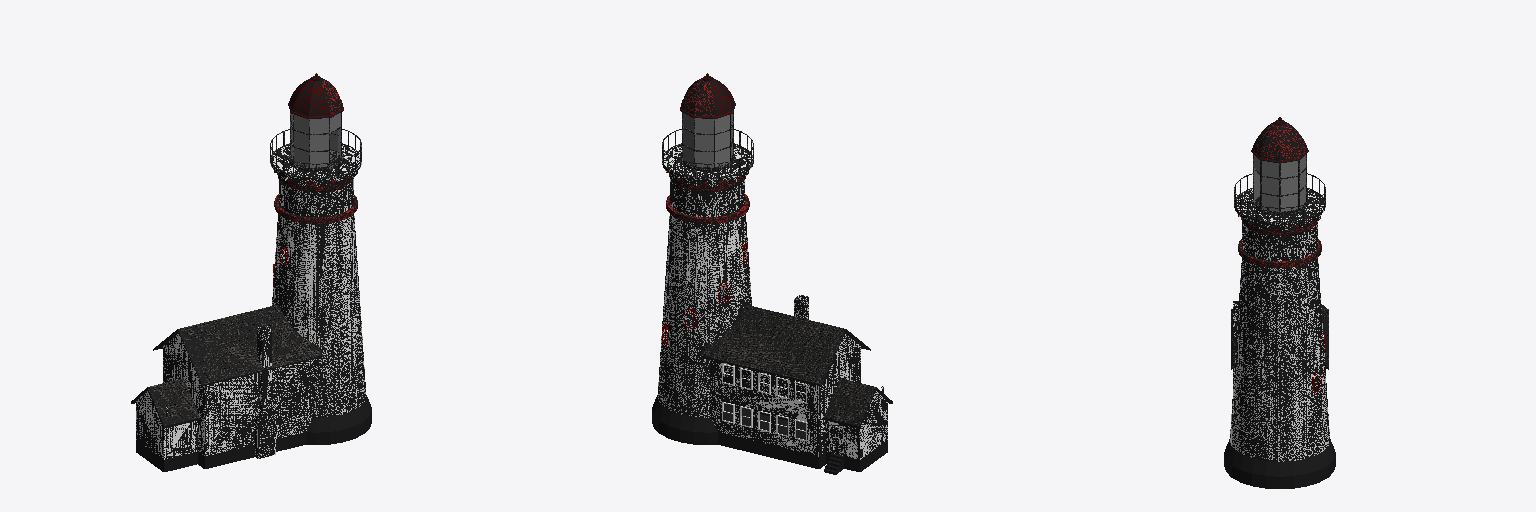
The picture shows the model from 3 angles: view 1: azimuth 30°, elevation 25°; view 2: azimuth 150°, elevation 25°; view 3: azimuth 270°, elevation 25°; orthographic projection.
Parts seen in each view (by area): view 1: mesh11_mesh11-geometry; view 2: mesh11_mesh11-geometry, mesh1_mesh1-geometry; view 3: mesh11_mesh11-geometry.
Part boxes in pixels (bbox=[...]): mesh11_mesh11-geometry: bbox=[131, 73, 371, 471]; mesh11_mesh11-geometry: bbox=[652, 73, 892, 474]; mesh1_mesh1-geometry: bbox=[722, 364, 806, 441]; mesh11_mesh11-geometry: bbox=[1224, 117, 1335, 488].
Size of the model in its own units: 0.5183 by 0.8234 by 0.231.
17 materials, 1 textured.